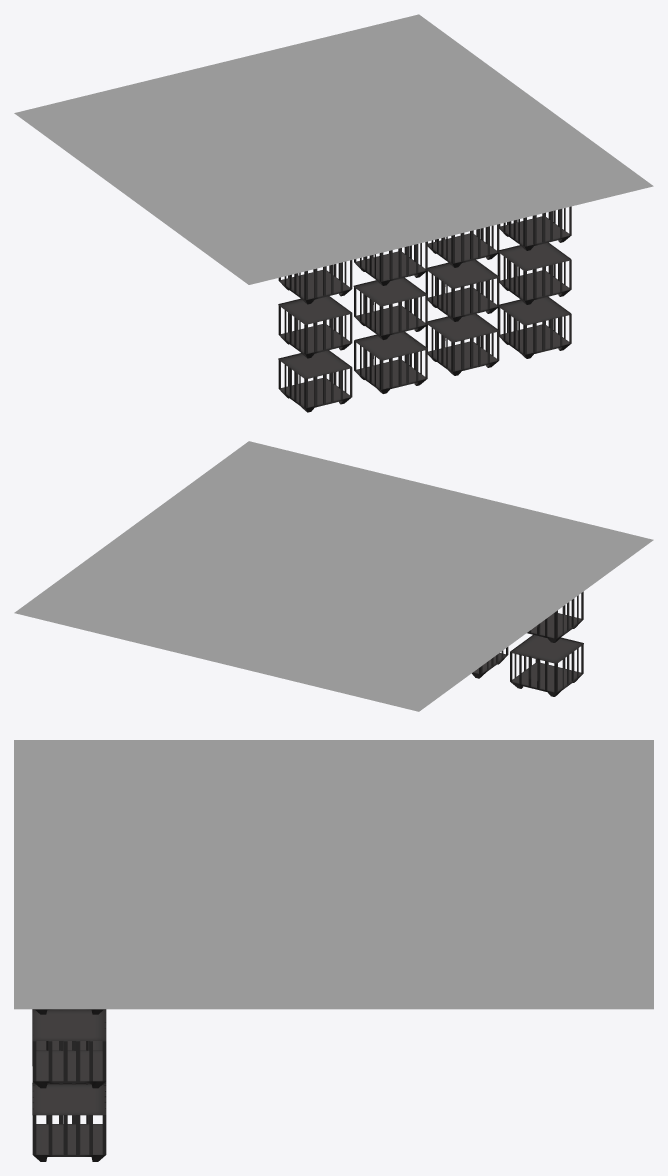
The model's file is New_Cages.fbx.
3 renders of one model, top to bottom at view 1: azimuth 30°, elevation 25°; view 2: azimuth 150°, elevation 25°; view 3: azimuth 270°, elevation 25°, orthographic. The views are drawn at different scales.
Parts seen in each view (by area): view 1: Roof1, polySurface93, polySurface147, polySurface91, polySurface153, polySurface162, polySurface150, polySurface99, polySurface156, polySurface143, polySurface139, polySurface97; view 2: Roof1, polySurface153, polySurface147; view 3: Roof1, polySurface93, polySurface91.
Part boxes in pixels (<box>): Roof1: <box>14,14,653,284</box>; polySurface93: <box>497,242,571,304</box>; polySurface147: <box>278,296,352,358</box>; polySurface91: <box>497,296,571,358</box>; polySurface153: <box>278,350,352,412</box>; polySurface162: <box>425,313,499,375</box>; polySurface150: <box>353,277,427,339</box>; polySurface99: <box>425,259,499,321</box>; polySurface156: <box>354,331,427,393</box>; polySurface143: <box>278,260,352,304</box>; polySurface139: <box>354,241,427,285</box>; polySurface97: <box>427,224,499,267</box>; Roof1: <box>14,441,653,711</box>; polySurface153: <box>510,634,583,696</box>; polySurface147: <box>527,591,583,642</box>; Roof1: <box>14,740,653,1014</box>; polySurface93: <box>32,1009,106,1088</box>; polySurface91: <box>32,1082,106,1161</box>.
Size of the model in its own units: 116 by 41.38 by 116.
2 materials, 1 textured.
